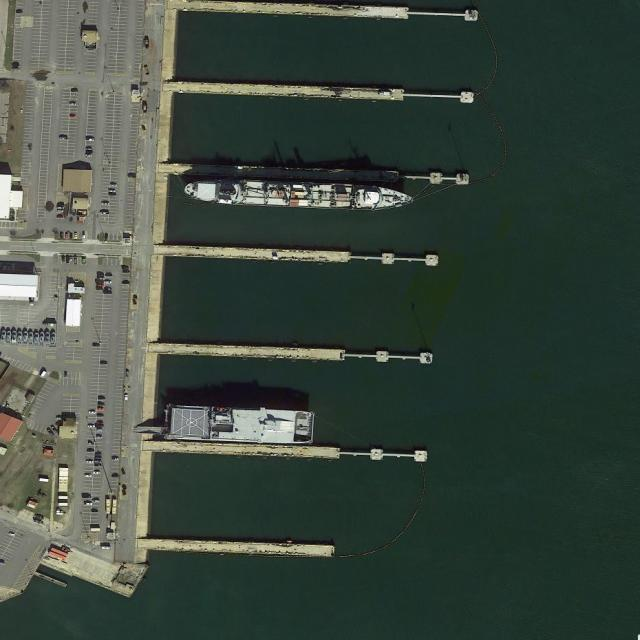Auxiliary Ships: (163, 403, 316, 446)
Cargo: (183, 175, 416, 213)
Dock: (169, 160, 469, 186), (173, 79, 473, 103), (167, 242, 438, 267), (158, 339, 432, 363), (148, 440, 426, 463), (149, 538, 331, 556)
